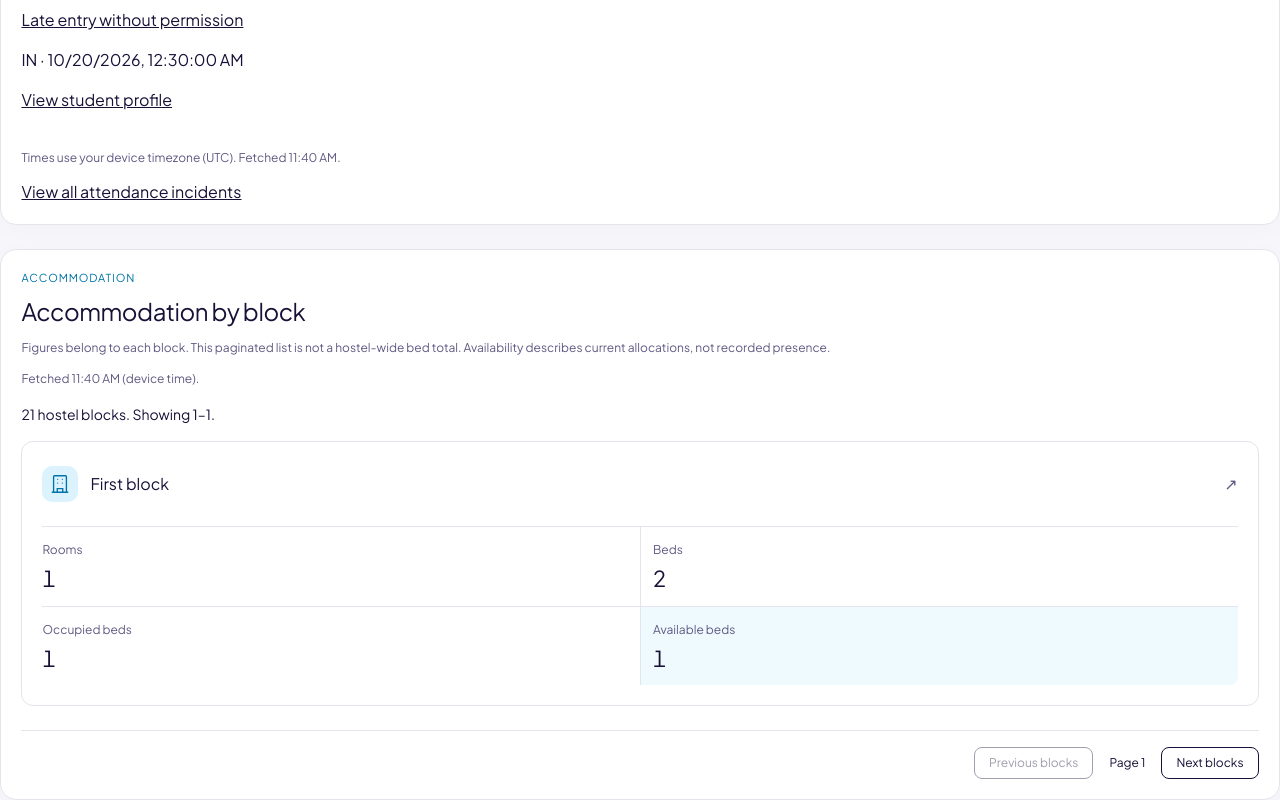
Test: shows per-block accommodation and preserves the paging focus behavior
(page scrolled)
Expected: the link "Late entry without permission" is shown, [22,10,243,30]
What coordinates should you click on to do the following:
click the button "Next blocks"
I would click on:
 (1210, 763)
Its box is [1161,747,1258,779].
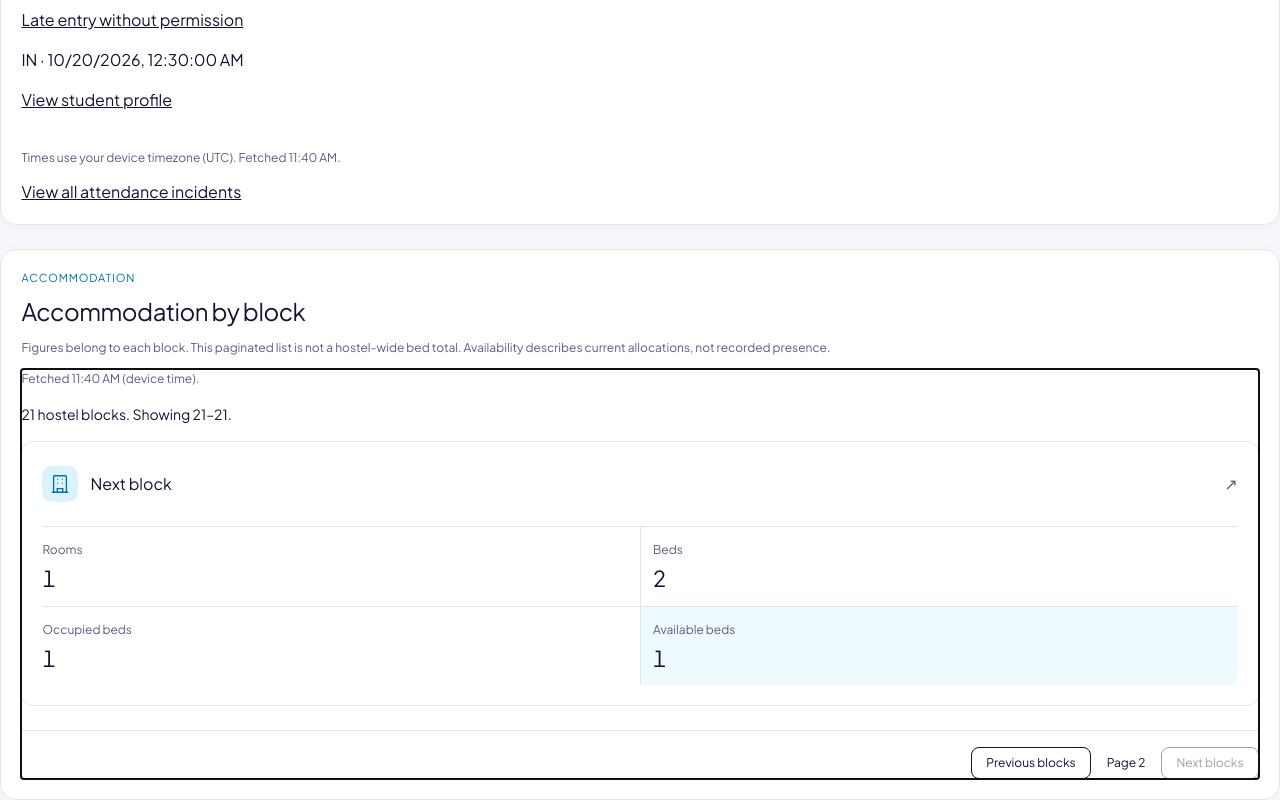
Now the link "Next block ↗" is shown, box [42,462,1238,506]
